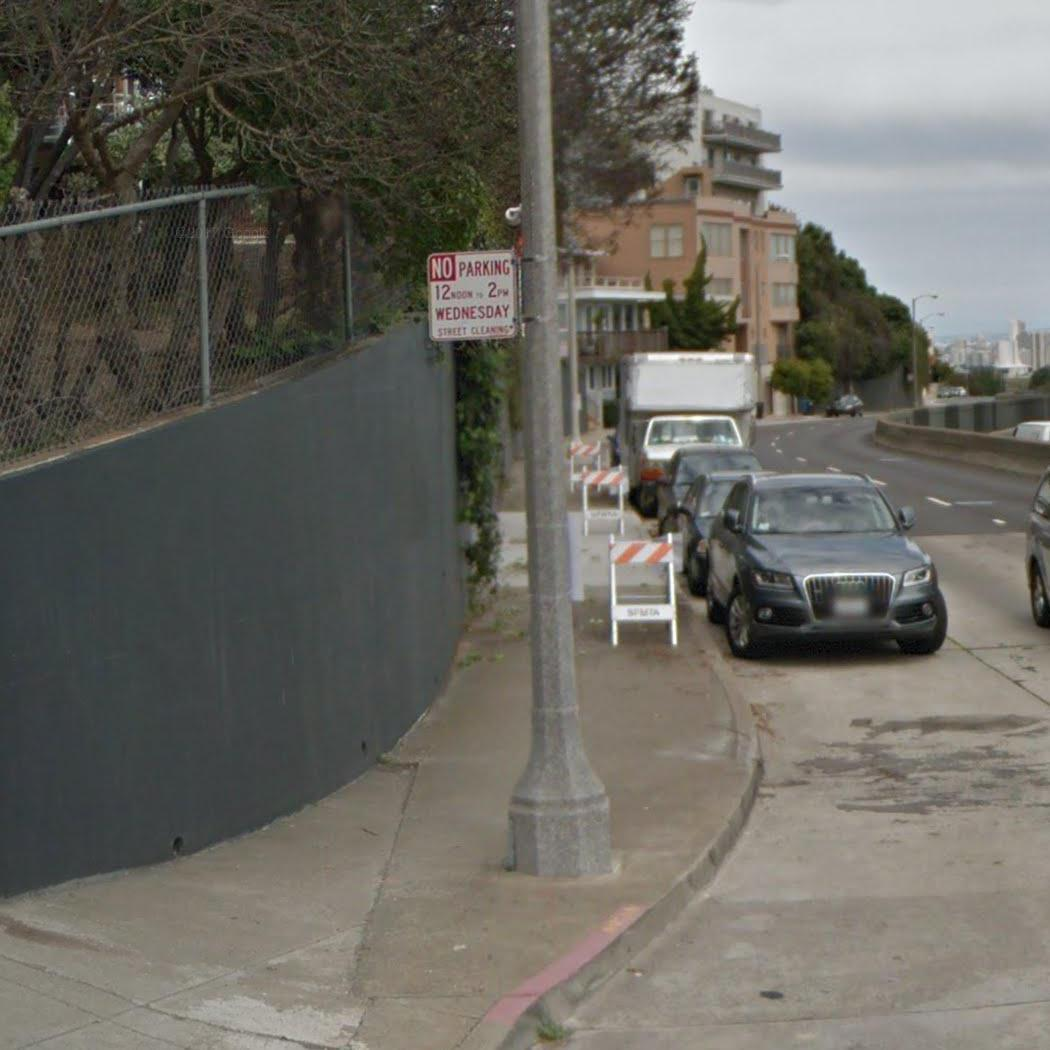No Parking: (425, 245, 524, 343)
